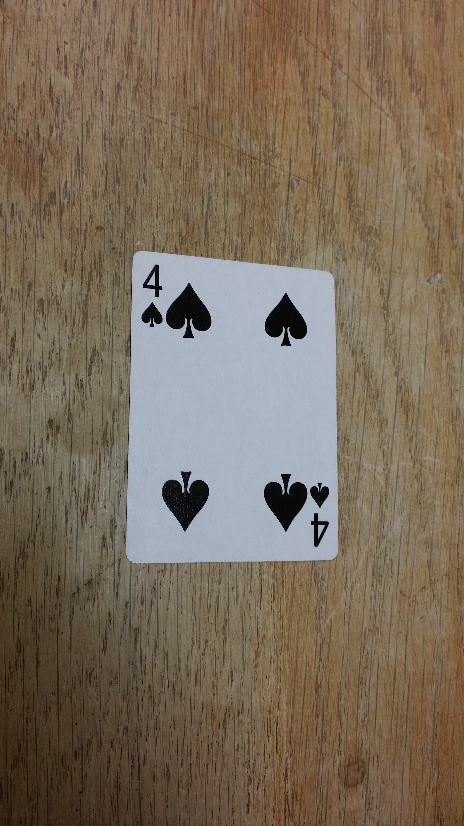S4: (135, 258, 167, 332), (309, 483, 331, 551)
